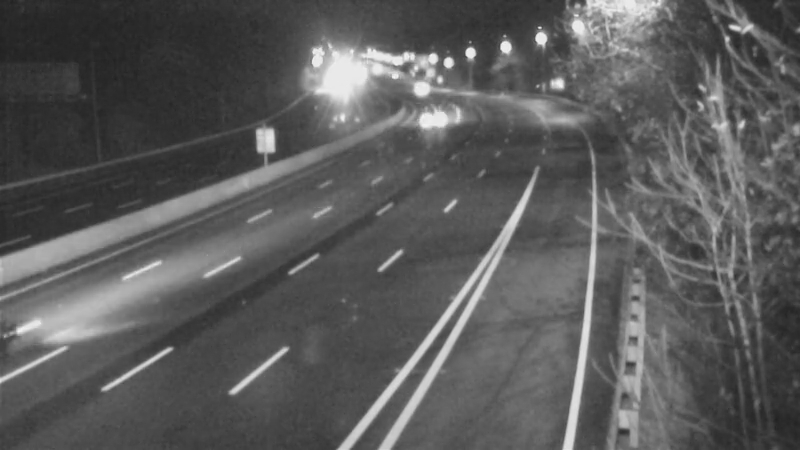vehicle: (371, 53, 421, 103), (399, 66, 449, 116), (415, 91, 465, 141)
